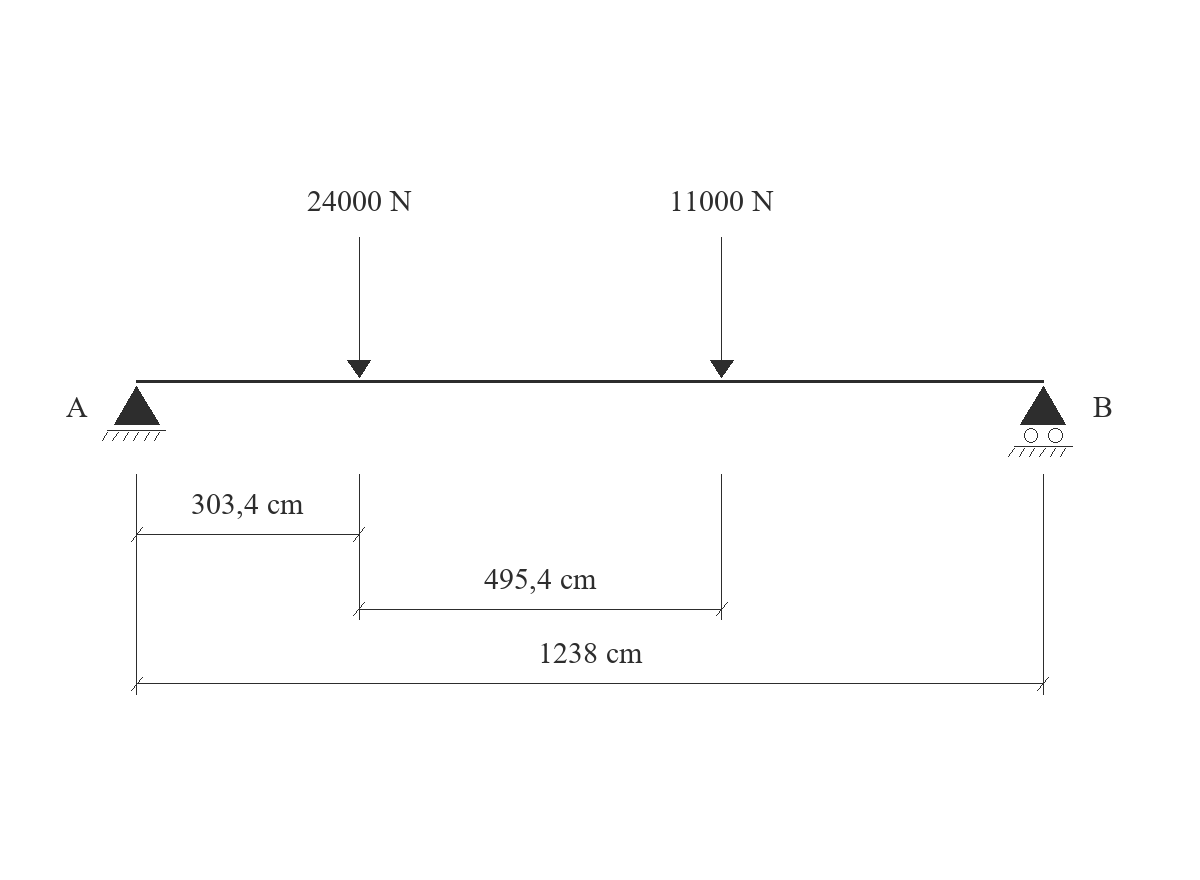pin_support: (102, 386, 166, 441)
point_load: (347, 237, 371, 378), (710, 237, 734, 378)
roller_support: (1008, 386, 1073, 457)
